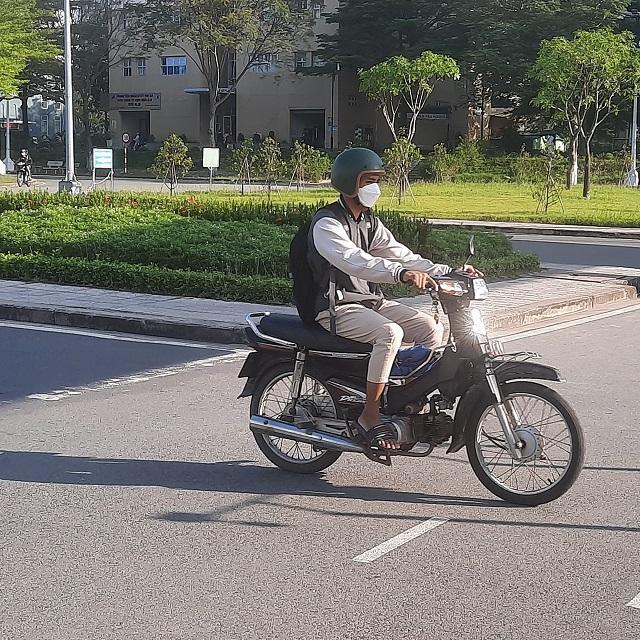Helmet: (326, 144, 389, 206)
